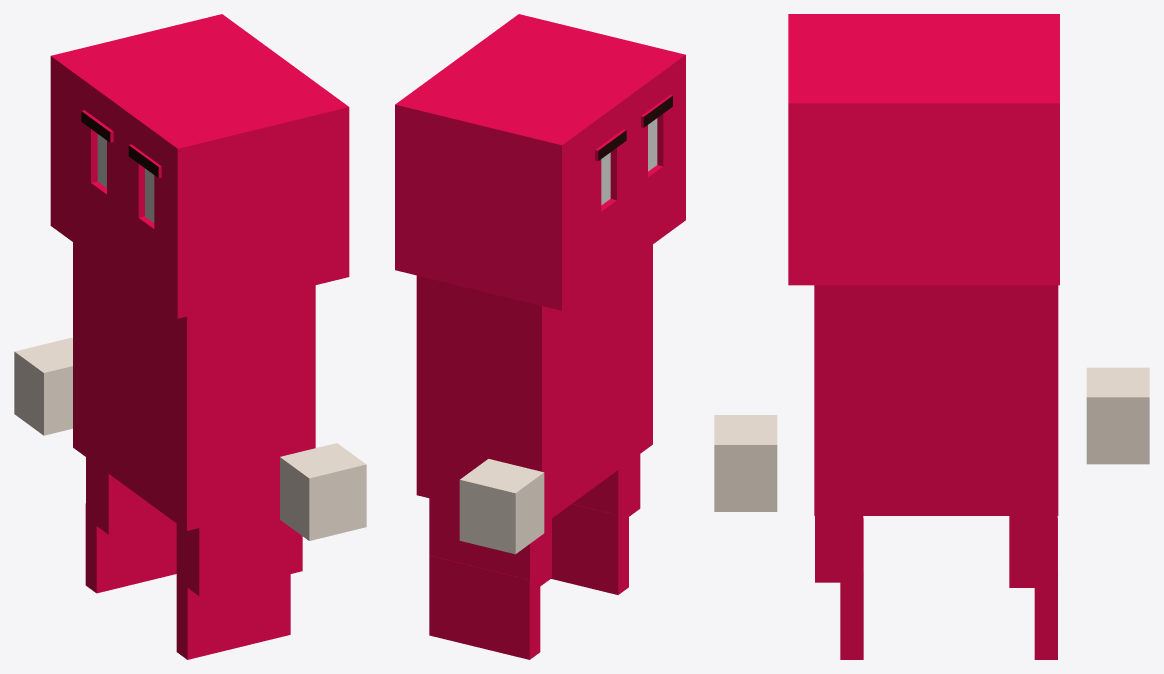
Rendered from Character.fbx.
3 views of the same model, side by side, from view 1: azimuth 30°, elevation 25°; view 2: azimuth 150°, elevation 25°; view 3: azimuth 270°, elevation 25° (orthographic). The views are drawn at different scales.
Parts seen in each view (by area): view 1: Cube.001, Cube, Cube.005, Cube.004, Cube.007, Cube.003, Cube.006, Cube.002; view 2: Cube.001, Cube, Cube.003, Cube.006, Cube.004, Cube.002, Cube.005; view 3: Cube.001, Cube, Cube.006, Cube.007, Cube.002, Cube.005, Cube.004, Cube.003.
Boxes of the visible parts, bbox=[...] form: Cube.001: bbox=[50, 14, 349, 318]; Cube: bbox=[73, 242, 315, 530]; Cube.005: bbox=[176, 508, 302, 596]; Cube.004: bbox=[176, 570, 290, 659]; Cube.007: bbox=[280, 443, 366, 540]; Cube.003: bbox=[85, 503, 176, 593]; Cube.006: bbox=[14, 337, 72, 435]; Cube.002: bbox=[86, 457, 170, 534]; Cube.001: bbox=[395, 14, 685, 310]; Cube: bbox=[416, 244, 652, 523]; Cube.003: bbox=[429, 555, 540, 659]; Cube.006: bbox=[459, 459, 544, 554]; Cube.004: bbox=[551, 504, 628, 594]; Cube.002: bbox=[429, 498, 551, 593]; Cube.005: bbox=[572, 454, 640, 521]; Cube.001: bbox=[788, 14, 1059, 285]; Cube: bbox=[814, 285, 1058, 515]; Cube.006: bbox=[1086, 367, 1149, 464]; Cube.007: bbox=[714, 415, 777, 511]; Cube.002: bbox=[1009, 516, 1057, 587]; Cube.005: bbox=[815, 516, 863, 582]; Cube.004: bbox=[840, 518, 863, 659]; Cube.003: bbox=[1034, 518, 1057, 659].
Size of the model in its own units: 96.99 by 285 by 196.
